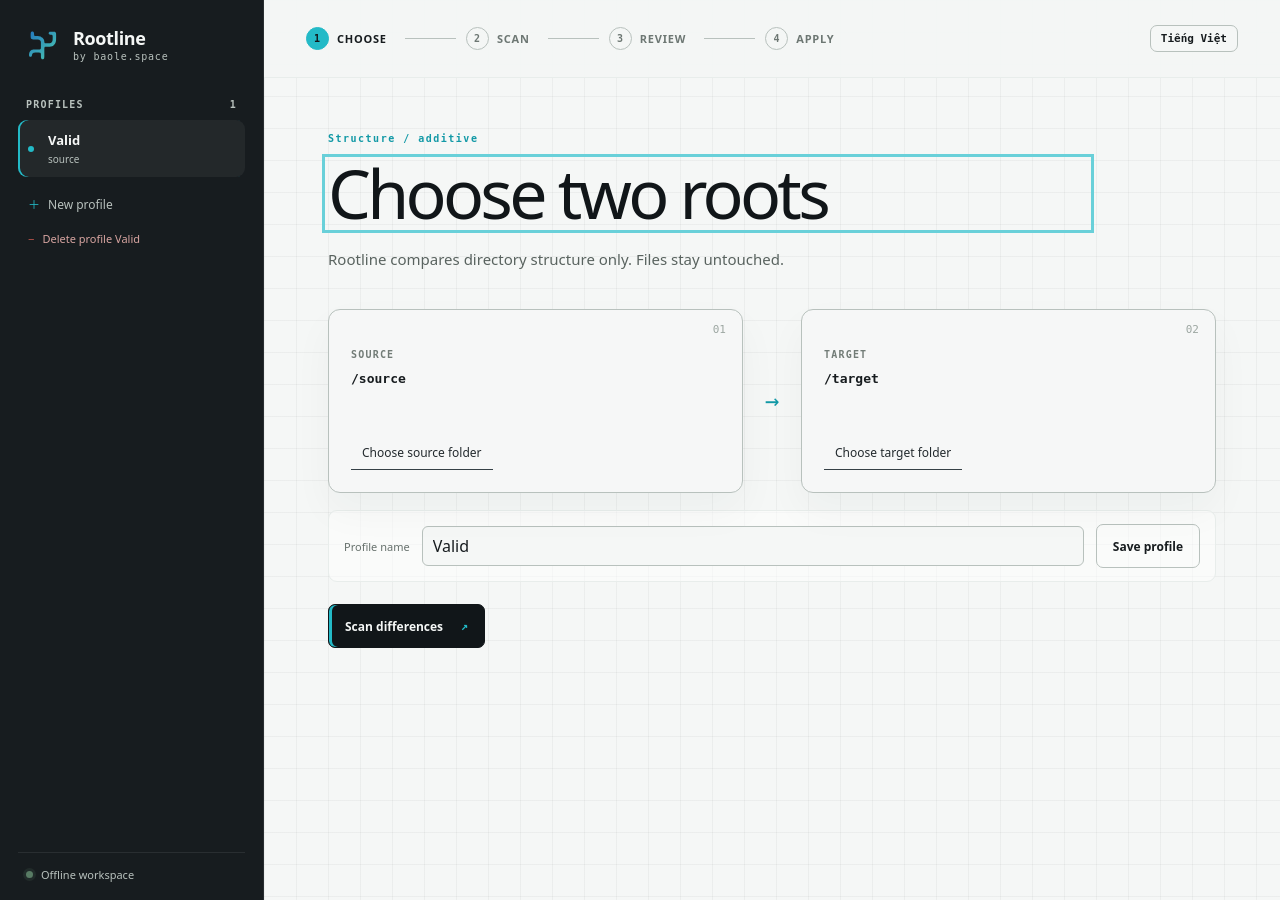
it: Rootline desktop workflow › localizes native profile validation failures without persisting UI state
Click the button "Tiếng Việt": (1194, 38) [1150,25,1238,52]
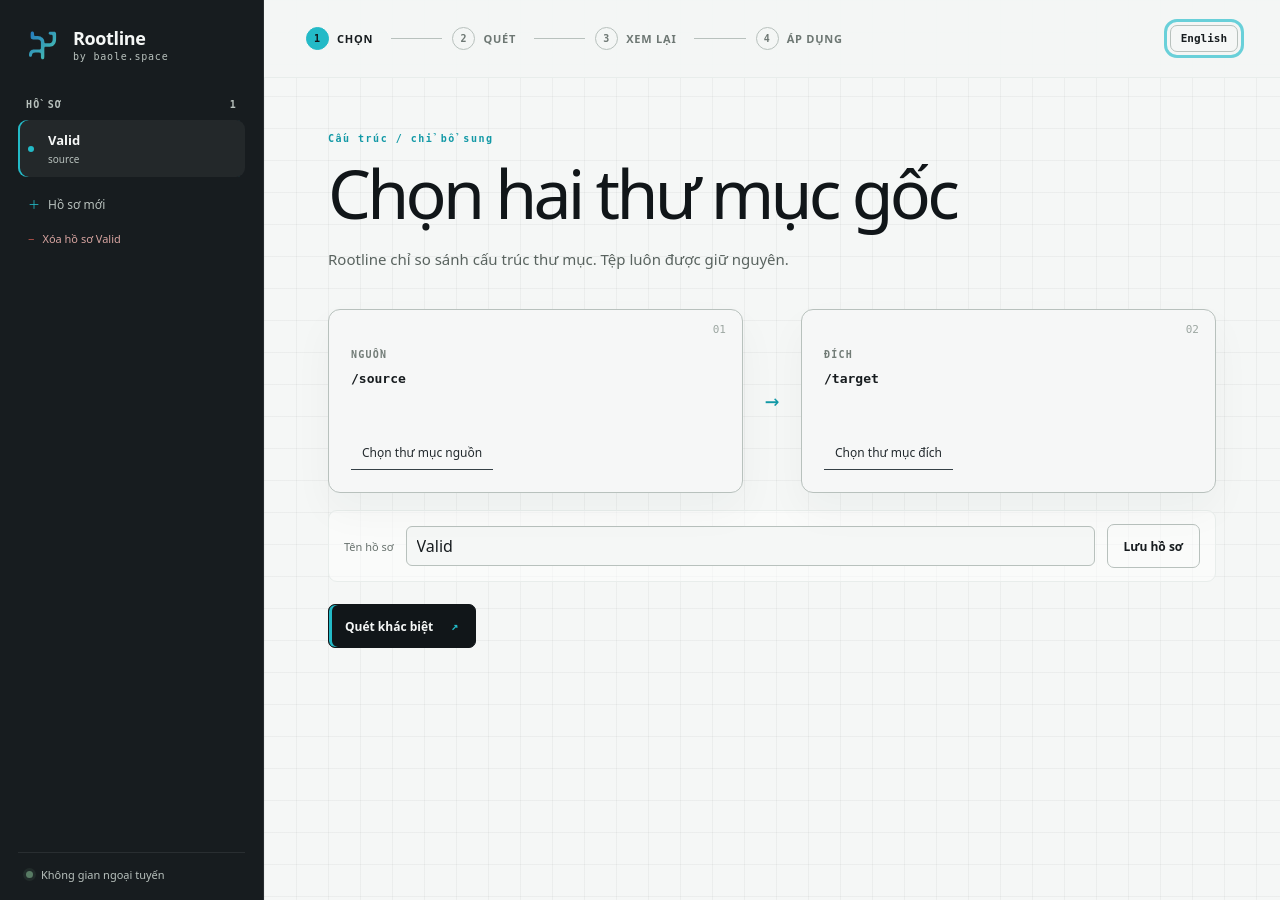
Click the button "Lưu hồ sơ": (1153, 546) [1106,524,1200,568]
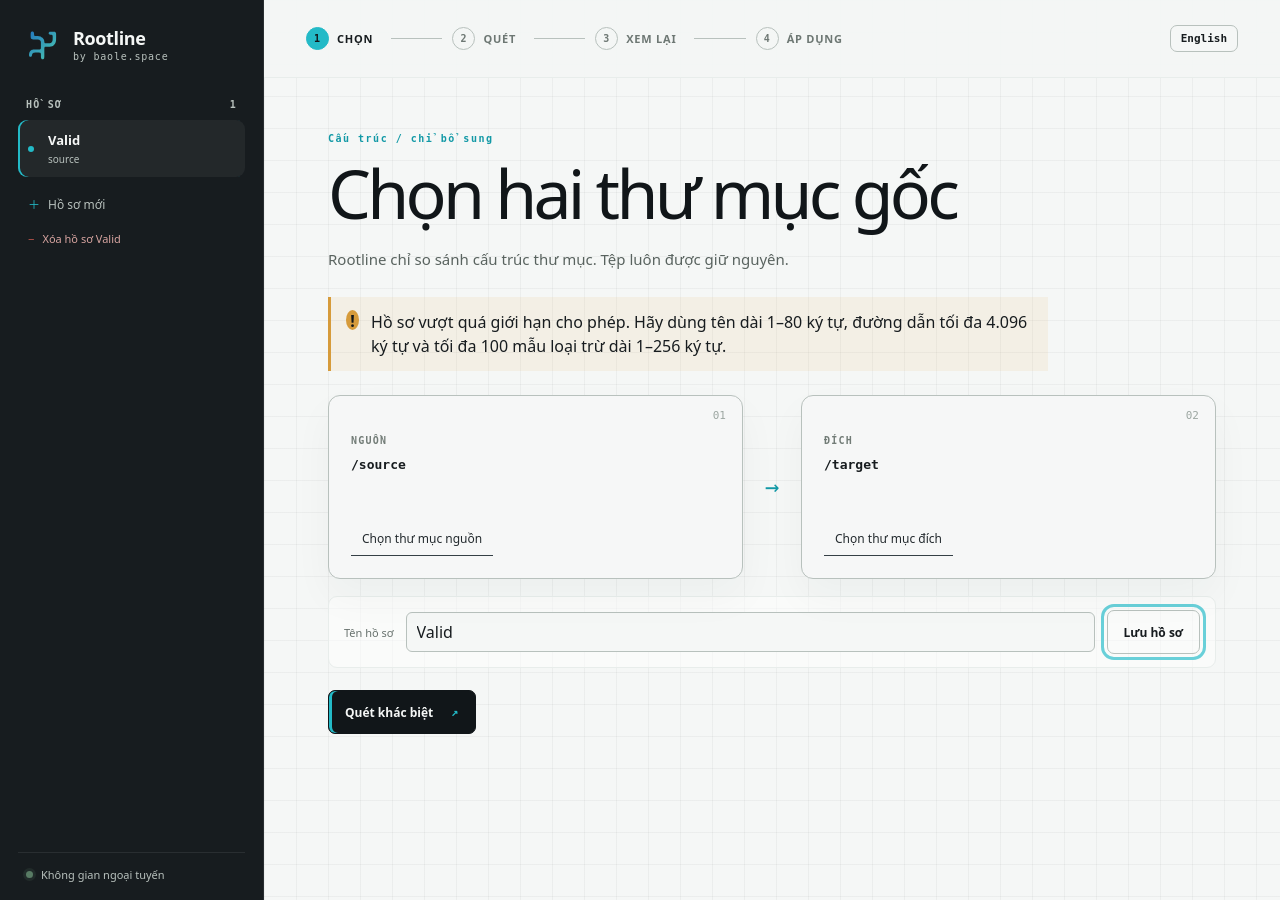
Result: the message shows "Hồ sơ vượt quá giới hạn cho phép" at [371,311,1027,357]
